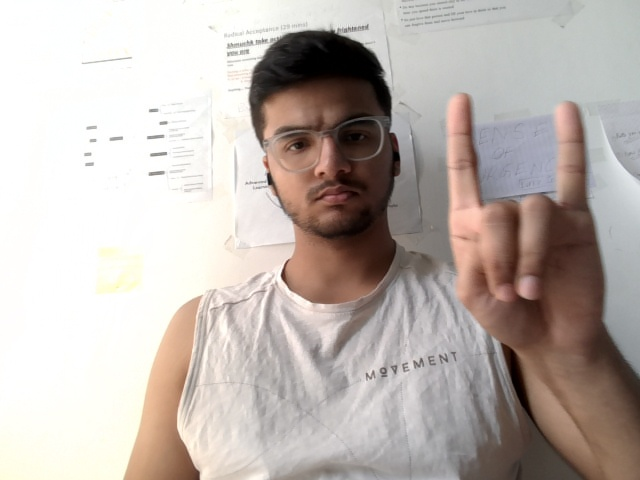iloveyou: (409, 78, 625, 360)
